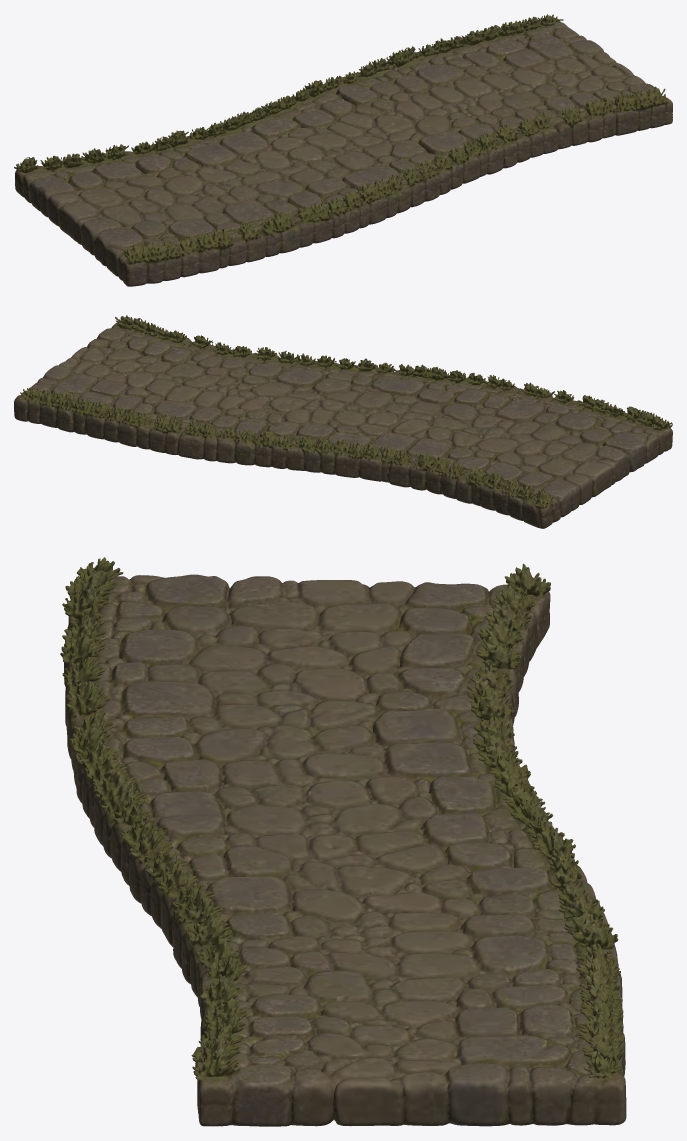
Rendered from Meshy_AI_road_curve_left_gentl_0823031738_image-to-3d-texture.glb.
3 renders of one model, top to bottom at view 1: azimuth 30°, elevation 25°; view 2: azimuth 150°, elevation 25°; view 3: azimuth 270°, elevation 25°, orthographic. The views are drawn at different scales.
Visible parts, largest first — view 1: mesh_node; view 2: mesh_node; view 3: mesh_node.
Boxes of the visible parts, box(x1,y1,x2,y2) form: mesh_node: box(14, 14, 672, 286); mesh_node: box(14, 315, 672, 528); mesh_node: box(60, 557, 626, 1126).
Bounding box in the file's own units: 1.9 × 0.1154 × 0.885.
Materials: 1 (1 with a texture image).
